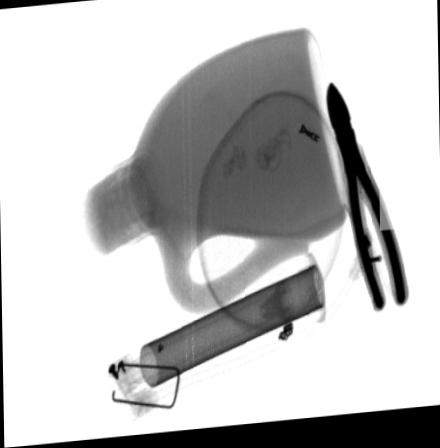Pliers: (326, 83, 409, 318)
